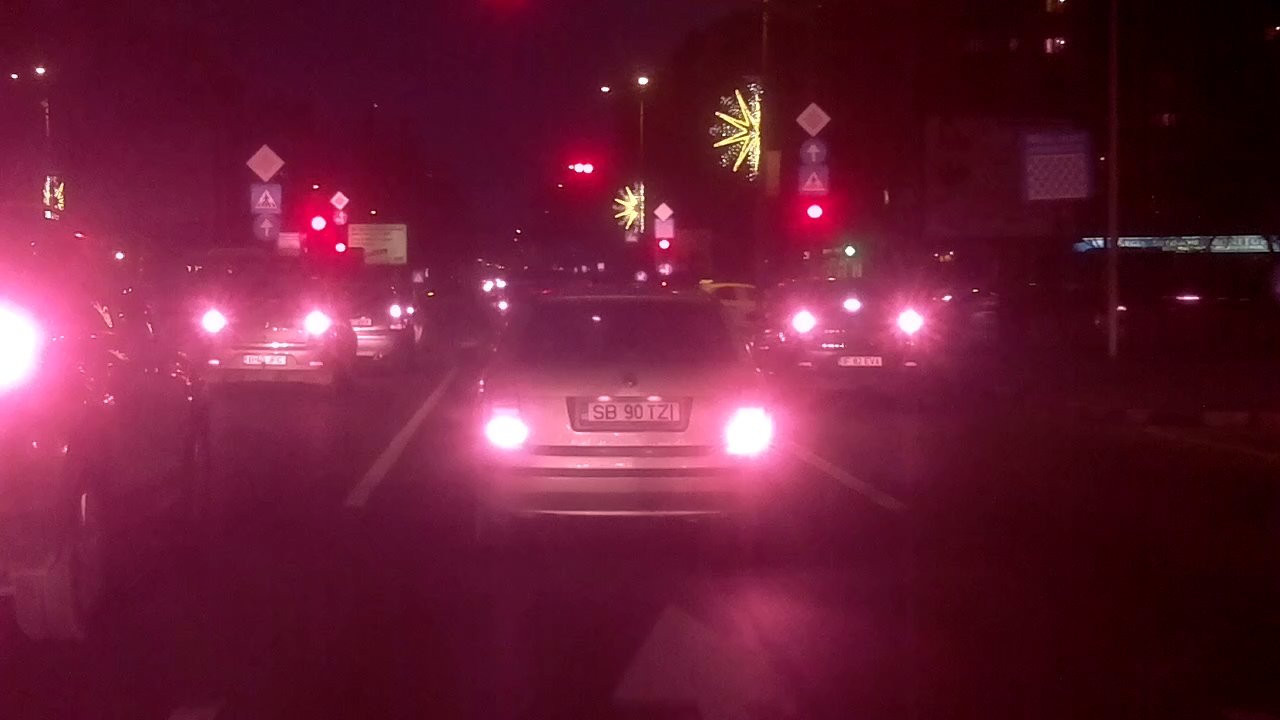license-plate: (575, 397, 685, 425)
